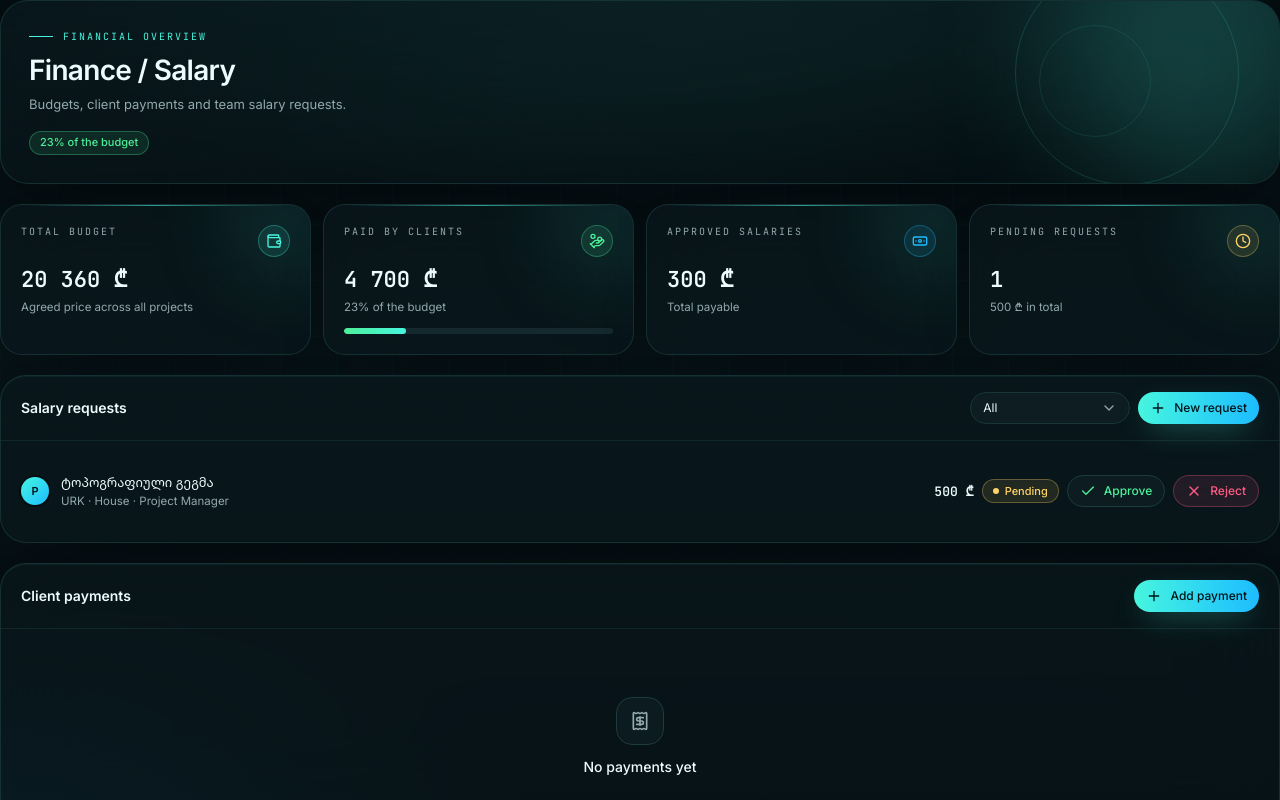
Test: FinancePage › approves optimistically and confirms with a toast
Click the button "Approve": (1116, 492) [1067,476,1165,508]
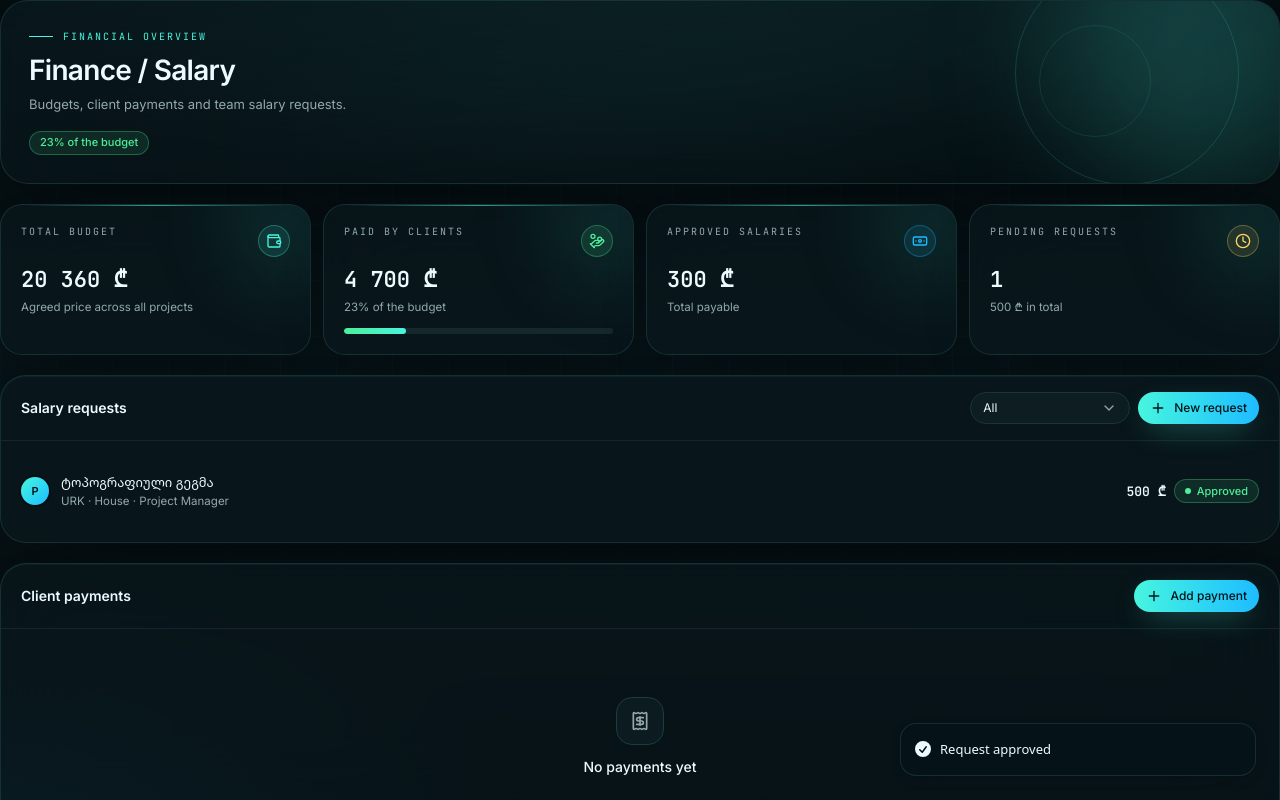
Check: the text "Approved" is shown, box [1174,480,1259,504]
Check: the text "Request approved" is shown, box [940,740,1051,759]
